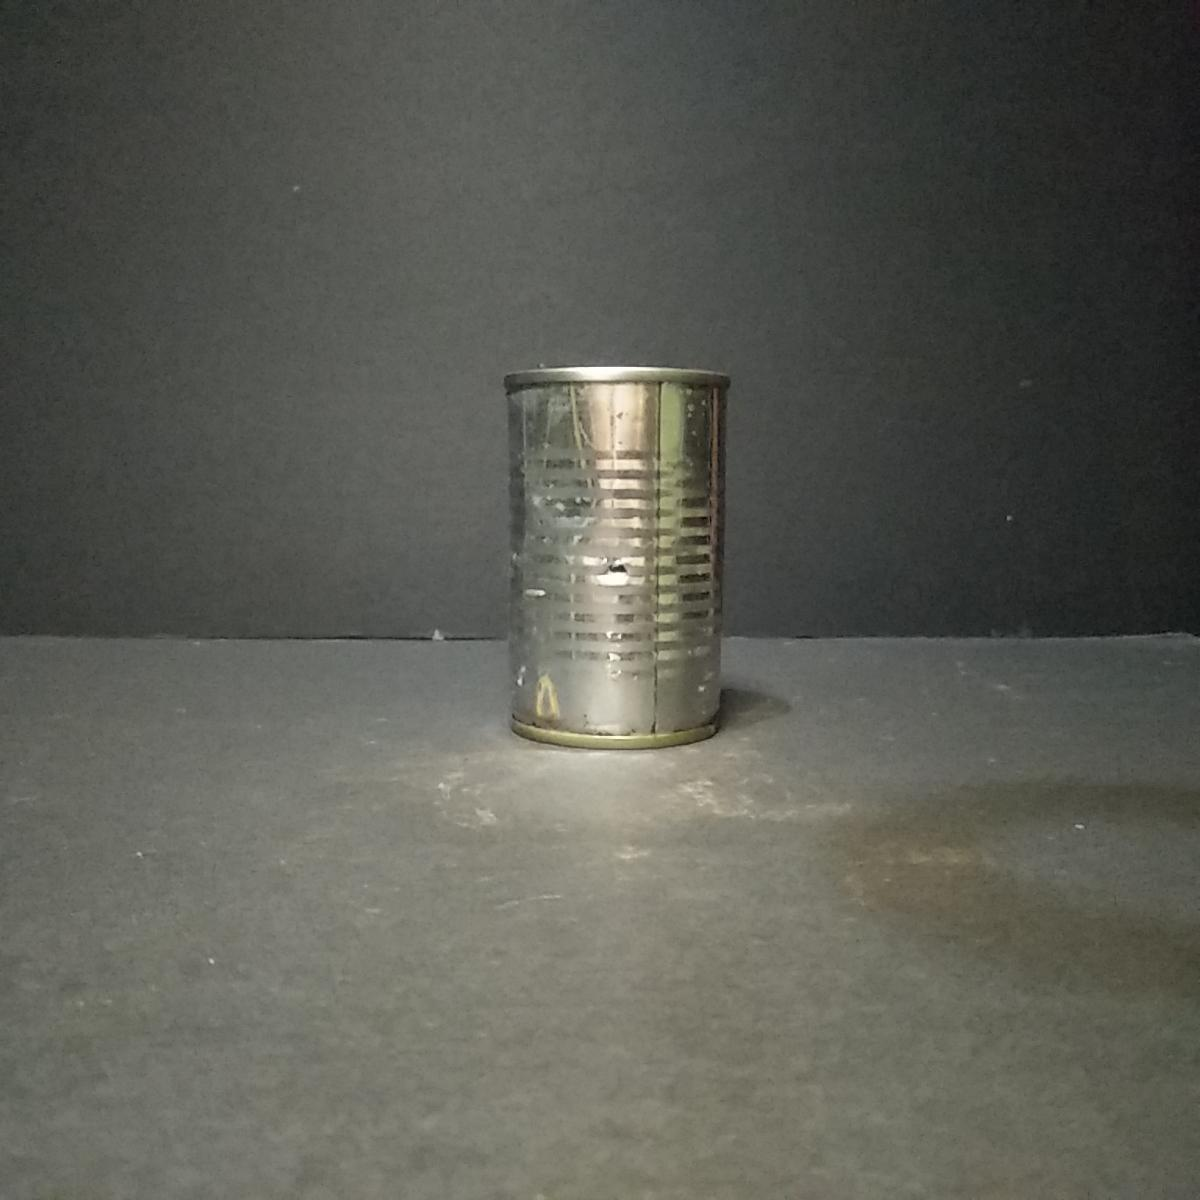Dented: (495, 358, 746, 752)
